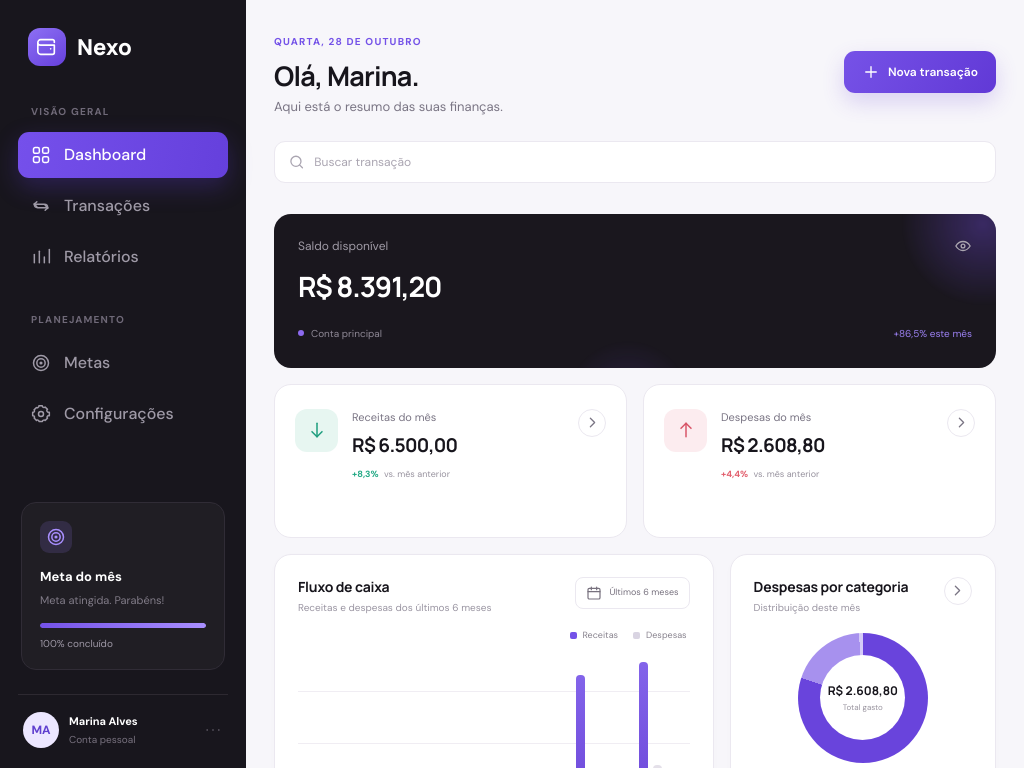
Test: ditado por voz no formulário › muda para receita quando a fala é de dinheiro recebido
Step 1. Click the button "Nova transação" → (920, 72), box x1=844 y1=51 x2=996 y2=93
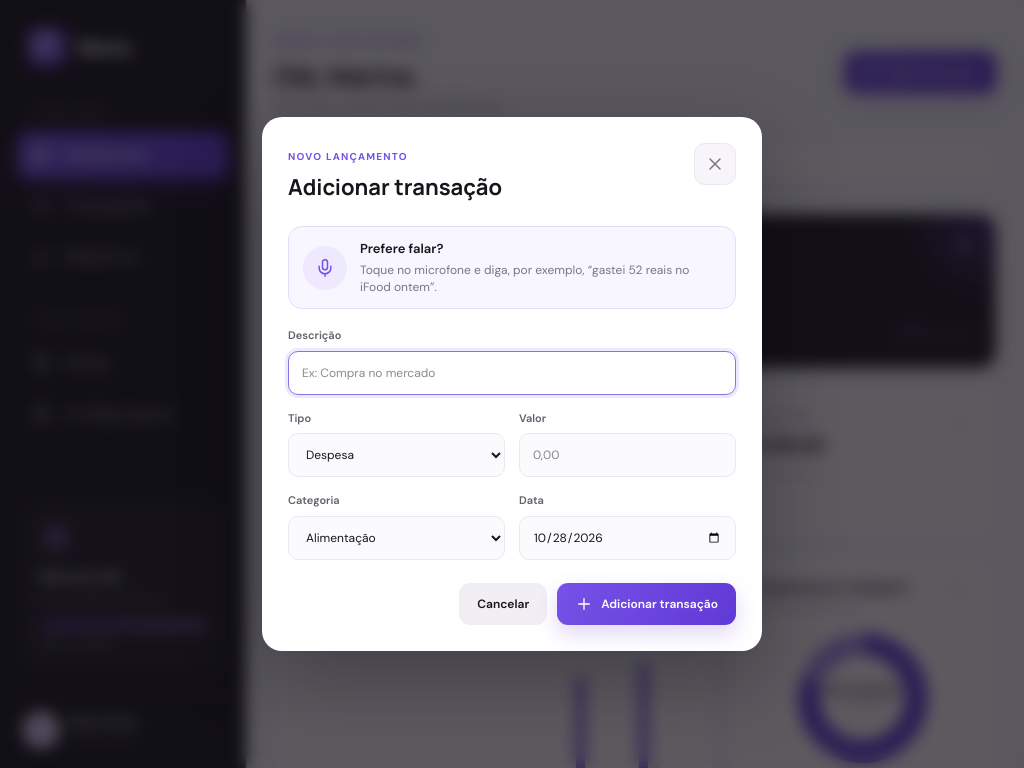
Step 2. Click the button named "Ditar transação" → (325, 268), box x1=303 y1=246 x2=347 y2=290
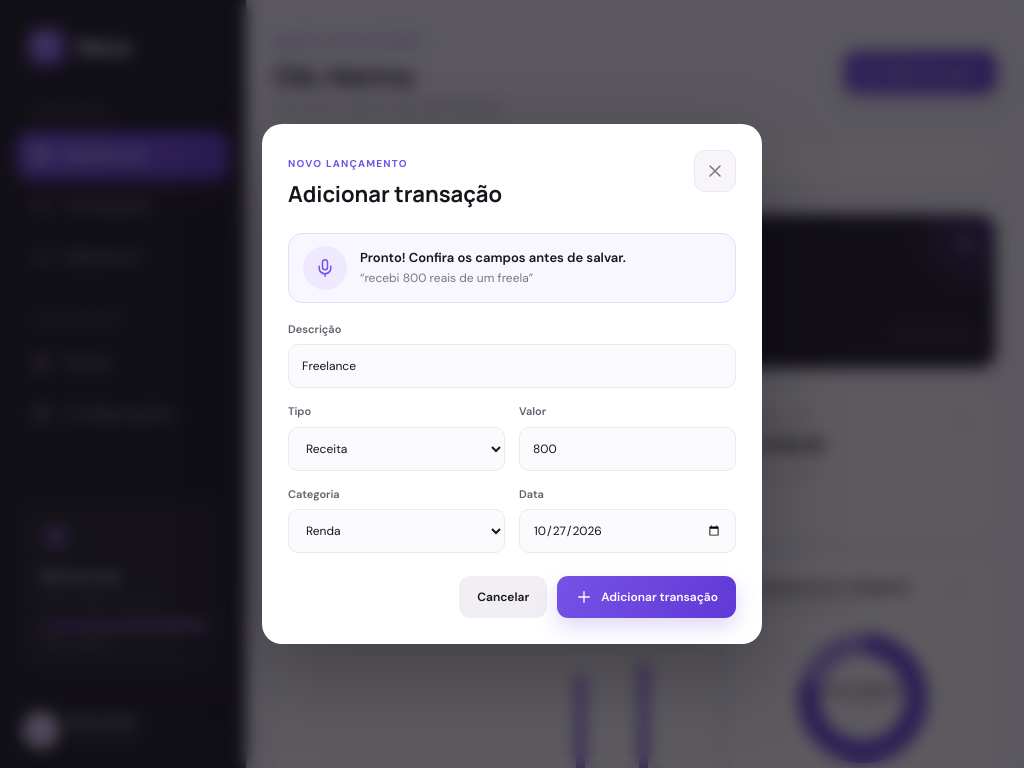
Now the dropdown labelled "Tipo" shows "Receita", box x1=288 y1=427 x2=505 y2=471
Now the dropdown labelled "Categoria" shows "Renda", box x1=288 y1=509 x2=505 y2=553
